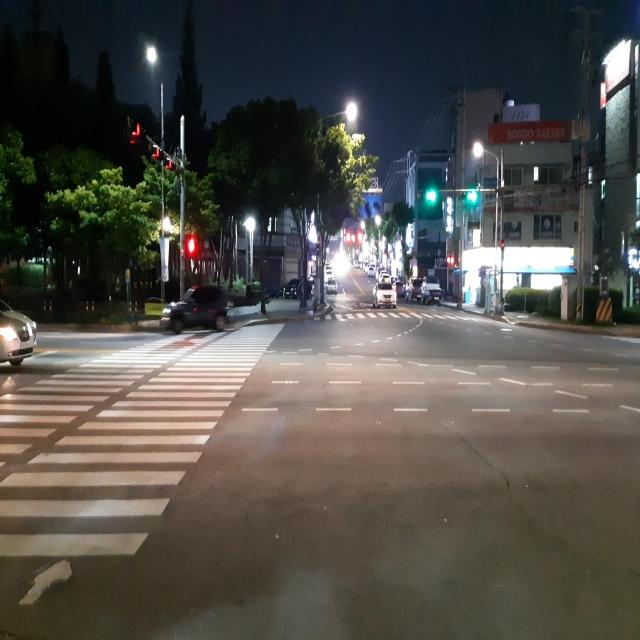횡단보도: (0, 316, 287, 609)
